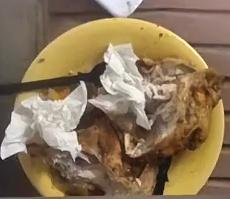fried_chicken: (27, 62, 222, 196)
